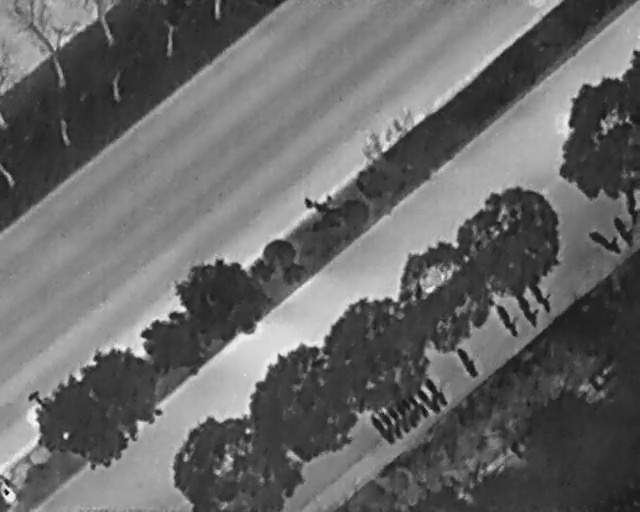Bicycle: (583, 224, 627, 258), (492, 299, 525, 341), (511, 288, 544, 330), (364, 410, 398, 449), (525, 276, 559, 315), (373, 406, 405, 443), (380, 402, 412, 439), (384, 396, 416, 433), (394, 393, 426, 430), (399, 387, 431, 424), (410, 385, 444, 419), (419, 375, 451, 409), (453, 344, 481, 380), (610, 212, 638, 248)
